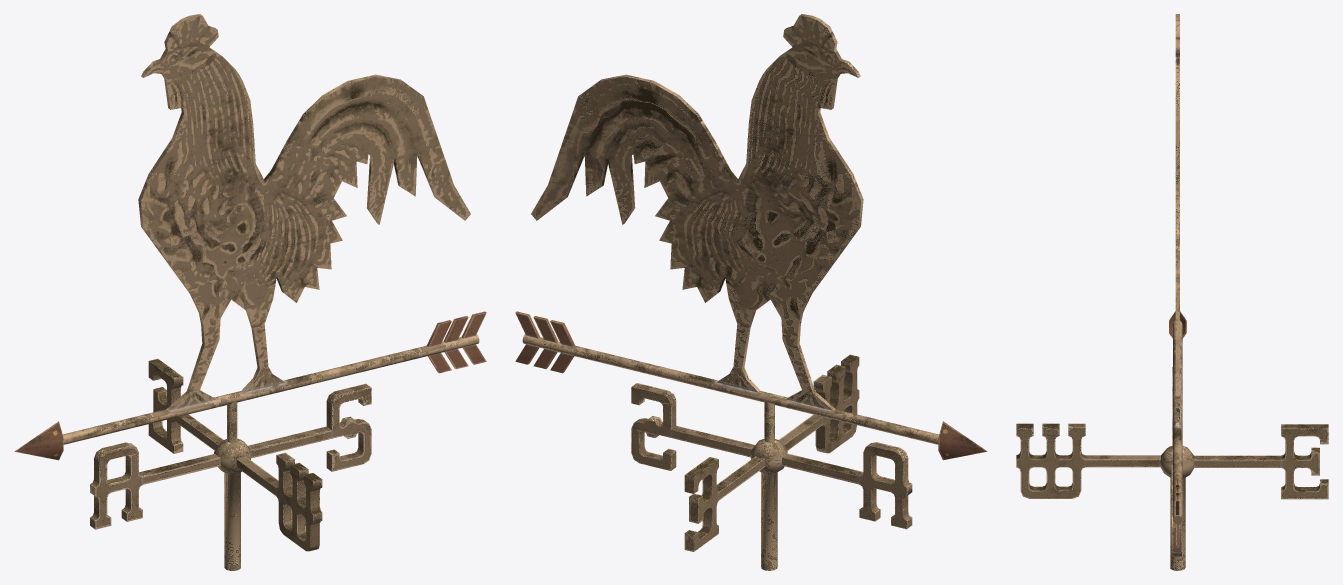
File: mdl_chazzyb_sci_weathervane.glb
The picture shows the model from 3 angles, left to right: view 1: azimuth 30°, elevation 25°; view 2: azimuth 150°, elevation 25°; view 3: azimuth 270°, elevation 25°; orthographic projection. The views are drawn at different scales.
Visible parts, largest first — view 1: Rooster, Rooster base; view 2: Rooster, Rooster base; view 3: Rooster base, Rooster.
Part boxes in pixels (bbox=[...]): Rooster: bbox=[14, 14, 486, 460]; Rooster base: bbox=[90, 358, 371, 570]; Rooster: bbox=[515, 14, 987, 460]; Rooster base: bbox=[631, 354, 912, 570]; Rooster base: bbox=[1016, 367, 1328, 570]; Rooster: bbox=[1169, 14, 1186, 547].
Bounding box in the file's own units: 64.36 × 73.18 × 38.98.
1 material, 1 textured.
